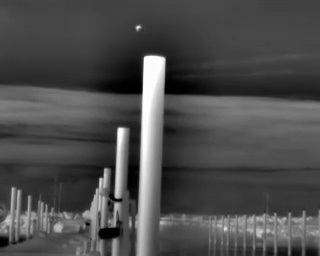BIRD: (133, 21, 144, 34)
